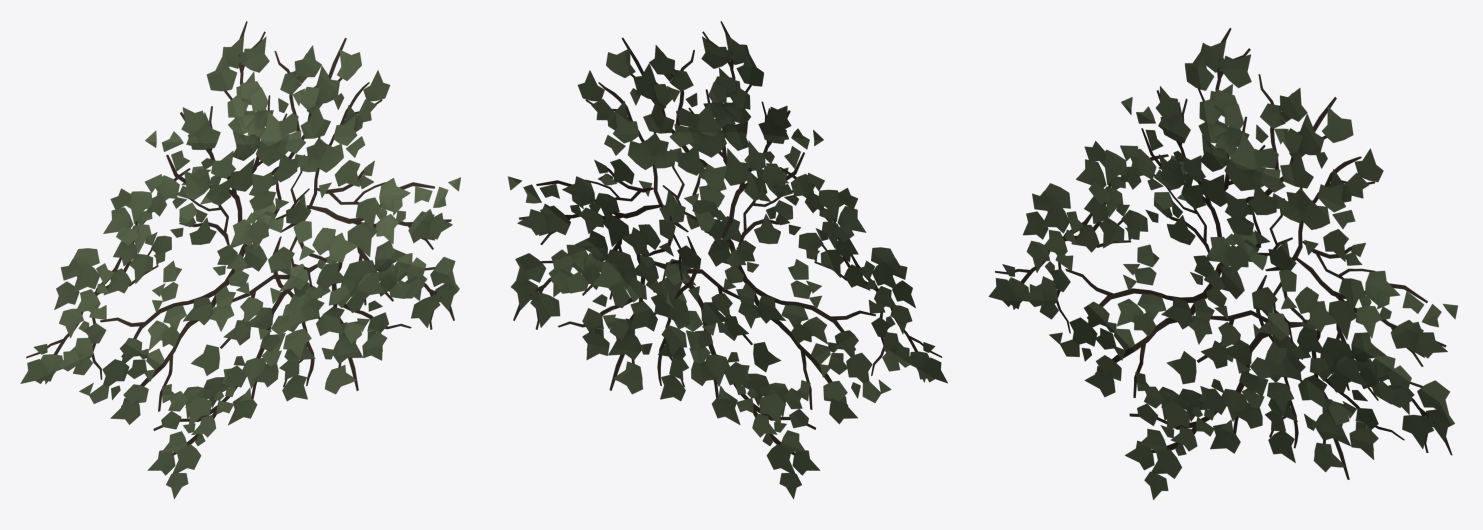
Rendered from Env_Ivy_13.glb.
3 views of the same model, side by side, from view 1: azimuth 30°, elevation 25°; view 2: azimuth 150°, elevation 25°; view 3: azimuth 330°, elevation 25° (orthographic). The views are drawn at different scales.
Visible parts, largest first — view 1: SM_Gen_Env_Ivy_13; view 2: SM_Gen_Env_Ivy_13; view 3: SM_Gen_Env_Ivy_13.
Boxes of the visible parts, box(x1,y1,x2,y2) form: SM_Gen_Env_Ivy_13: box(20, 21, 460, 499); SM_Gen_Env_Ivy_13: box(508, 21, 947, 499); SM_Gen_Env_Ivy_13: box(988, 28, 1457, 499).
Bounding box in the file's own units: 3.5 × 3.57 × 0.1109.
Materials: 1 (1 with a texture image).
